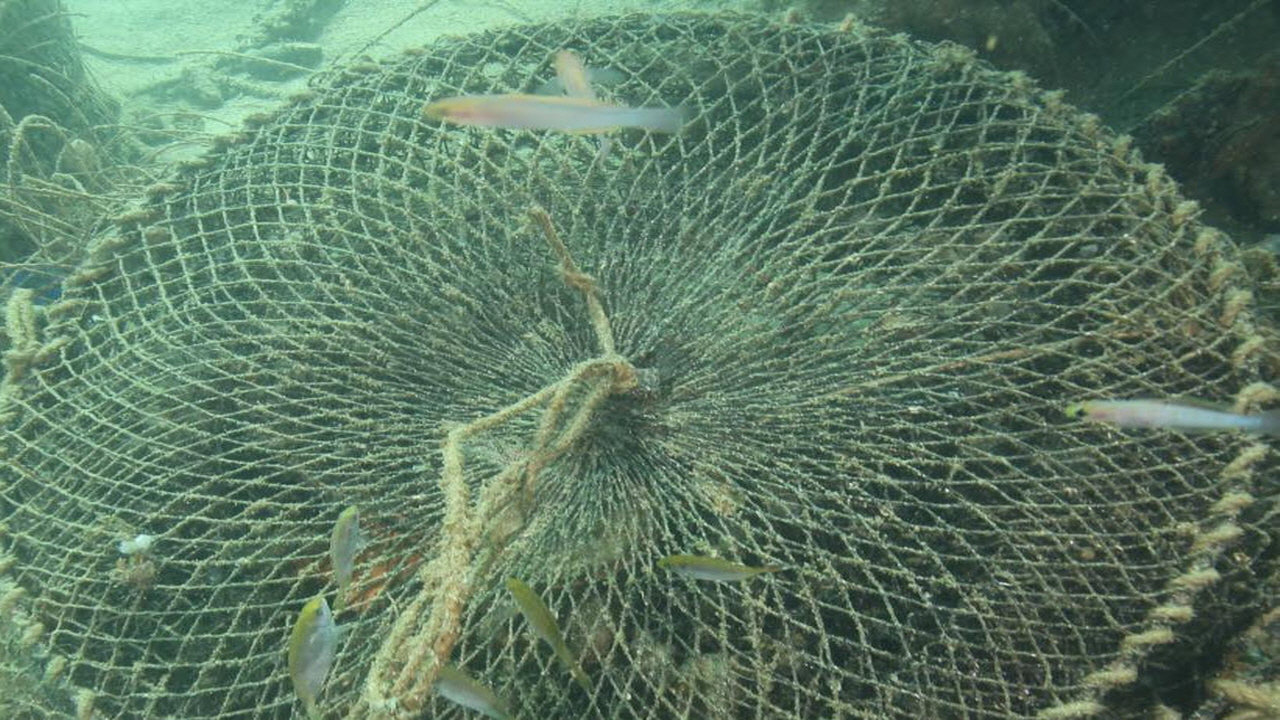circular fish trap: (0, 4, 1276, 720)
